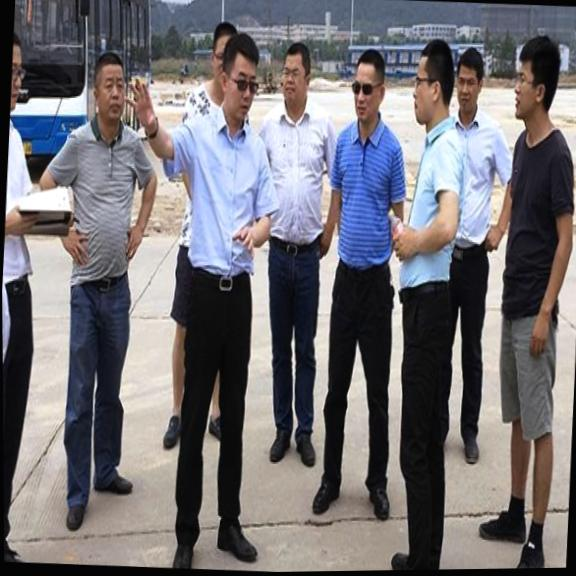no_safety_vest: (162, 108, 282, 286), (47, 116, 159, 296), (498, 119, 576, 327), (323, 109, 413, 280), (394, 106, 471, 302), (251, 97, 341, 253), (441, 107, 519, 262), (1, 101, 52, 297)
